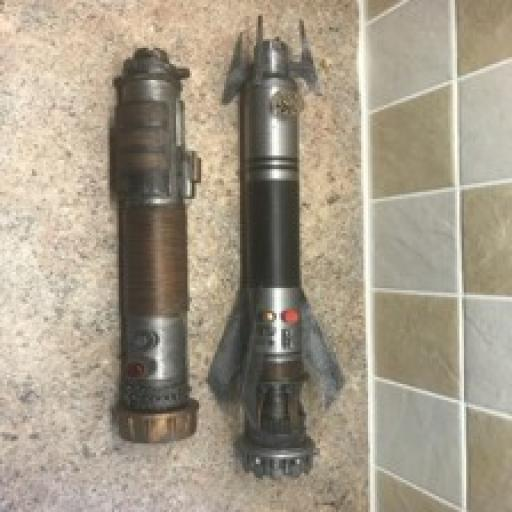lightsaber: (216, 15, 342, 472), (111, 44, 203, 445)
